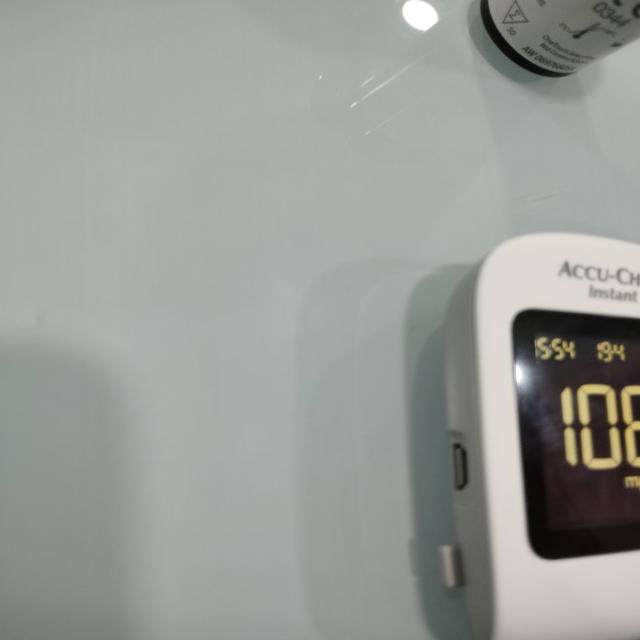gluco: (447, 236, 640, 640)
